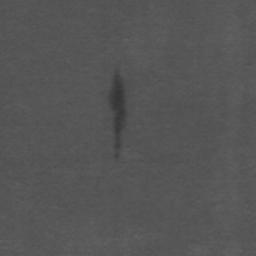Iron scale compression: (108, 70, 128, 159)
